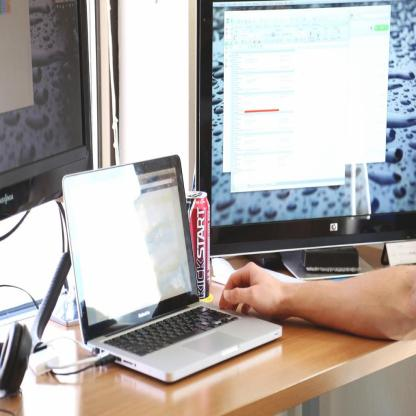board: (65, 154, 282, 385), (185, 191, 211, 299)
